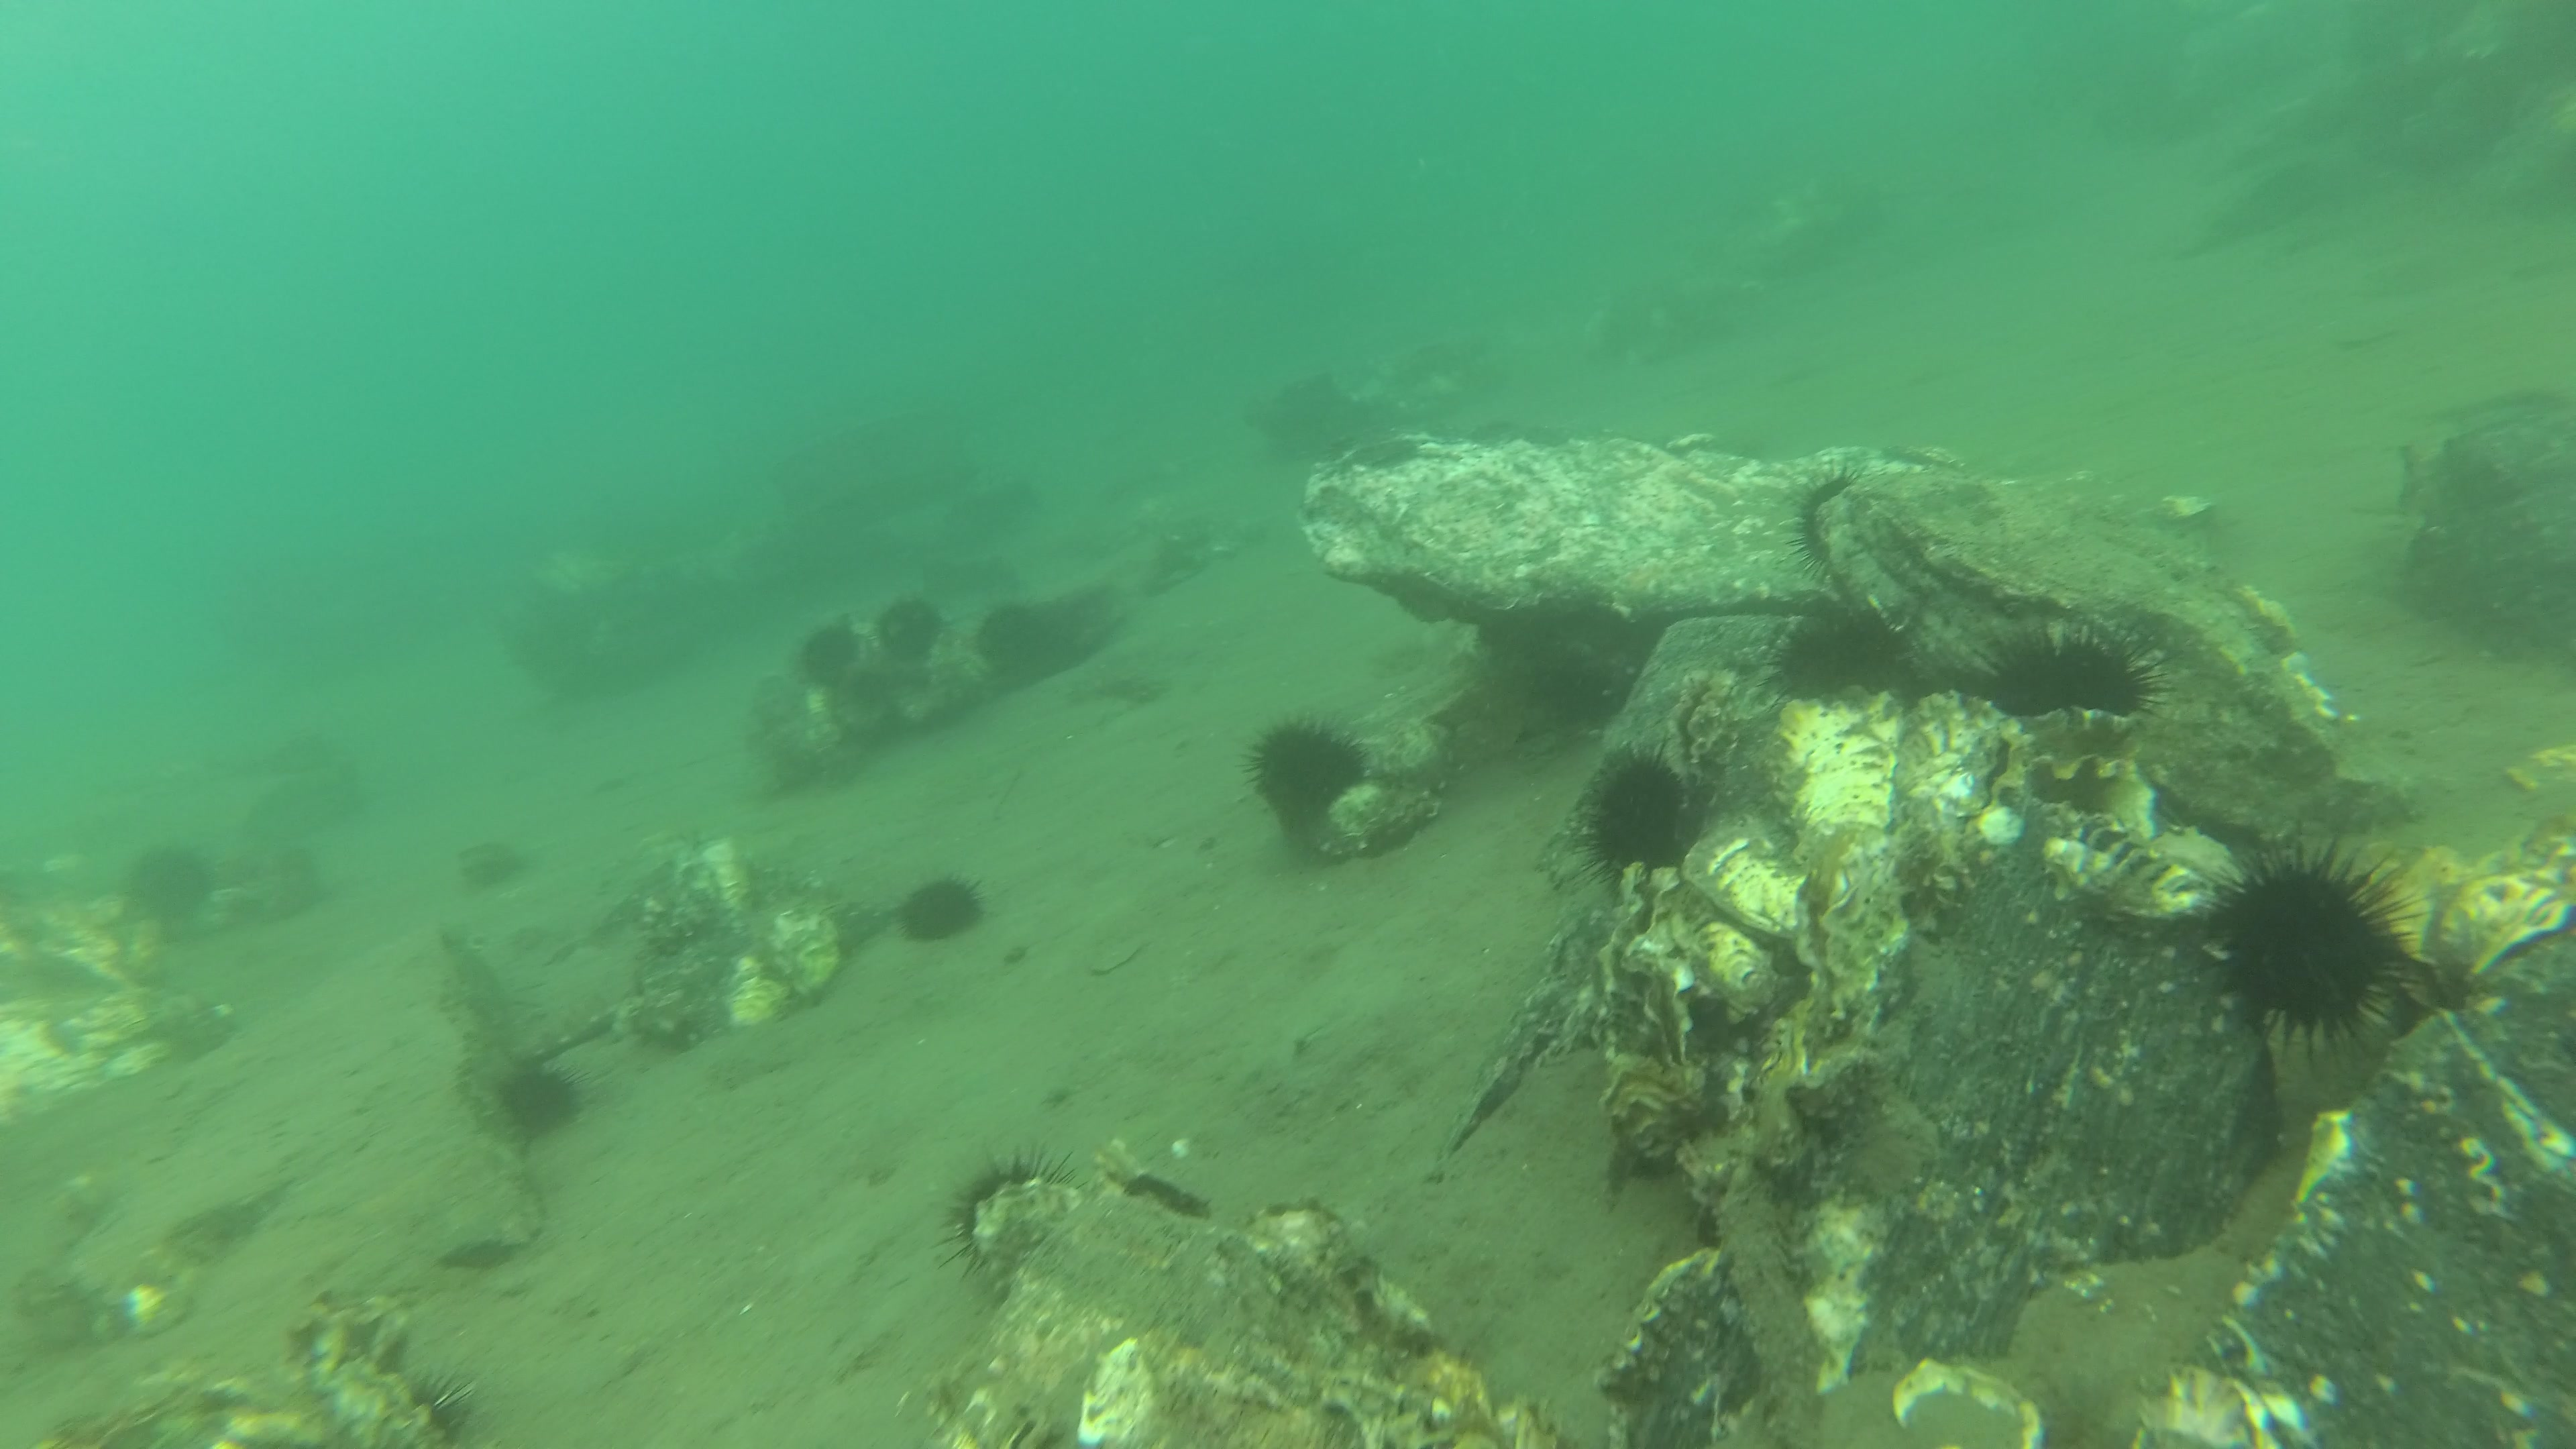echinus: (2190, 816, 2440, 1072), (1962, 609, 2181, 720), (1560, 727, 1698, 901), (929, 1139, 1092, 1277), (1757, 602, 1909, 718), (1230, 708, 1375, 828), (1782, 456, 1877, 593), (117, 842, 218, 922), (892, 865, 989, 943), (495, 1065, 594, 1134), (964, 600, 1054, 671), (410, 1366, 476, 1449), (872, 596, 945, 663), (796, 619, 863, 681), (849, 669, 892, 706)
holothurian: (511, 994, 621, 1063)
